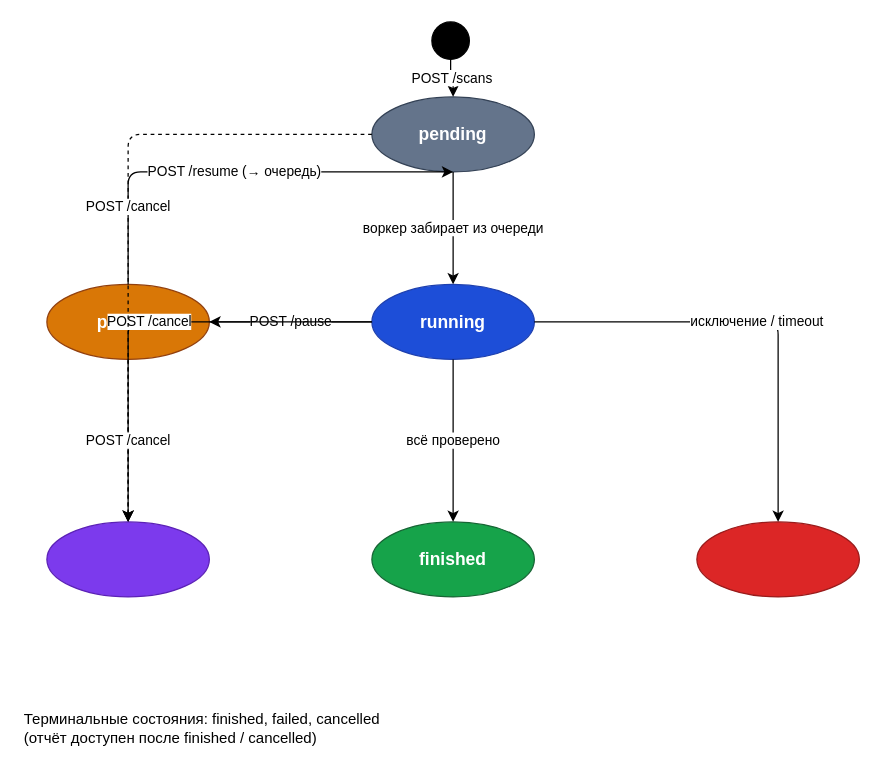
This 881x781 diagram has some shape labels left out. Here are the shapes that lost their labels. From the top down, the centre of each, then its label:
point 127,559: cancelled
point 777,559: failed
